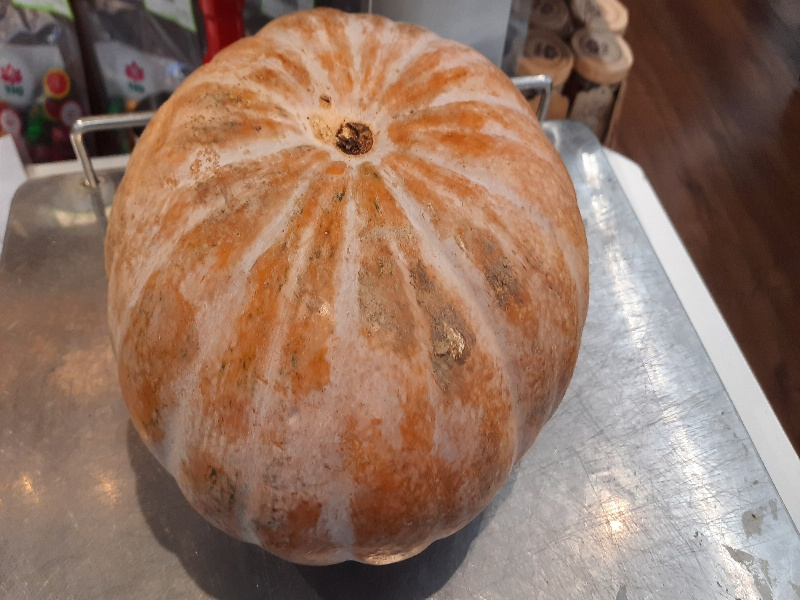vege: (101, 4, 593, 574)
